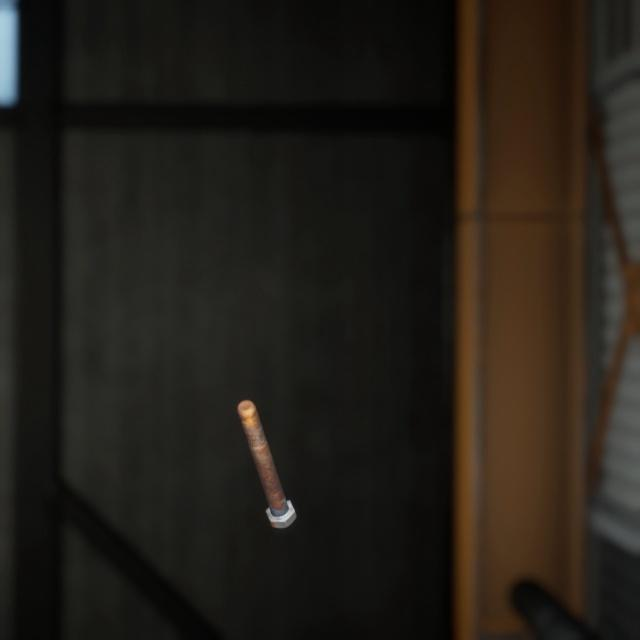bolt: (232, 373, 301, 511)
